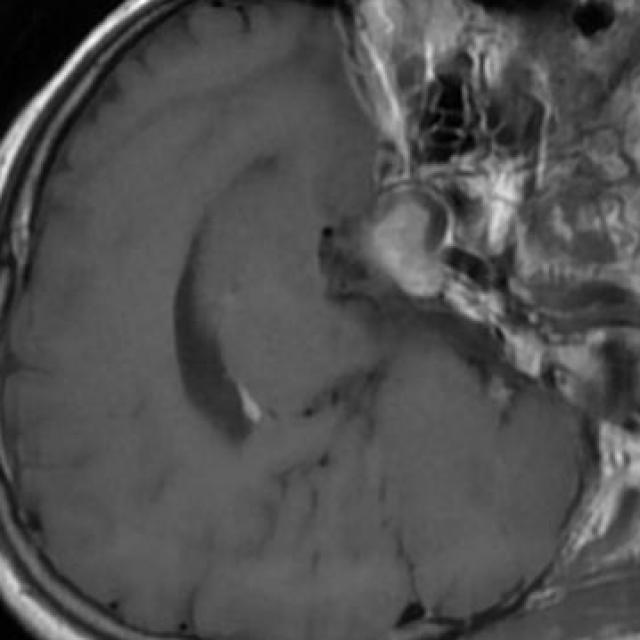pituitary: (373, 201, 449, 299)
